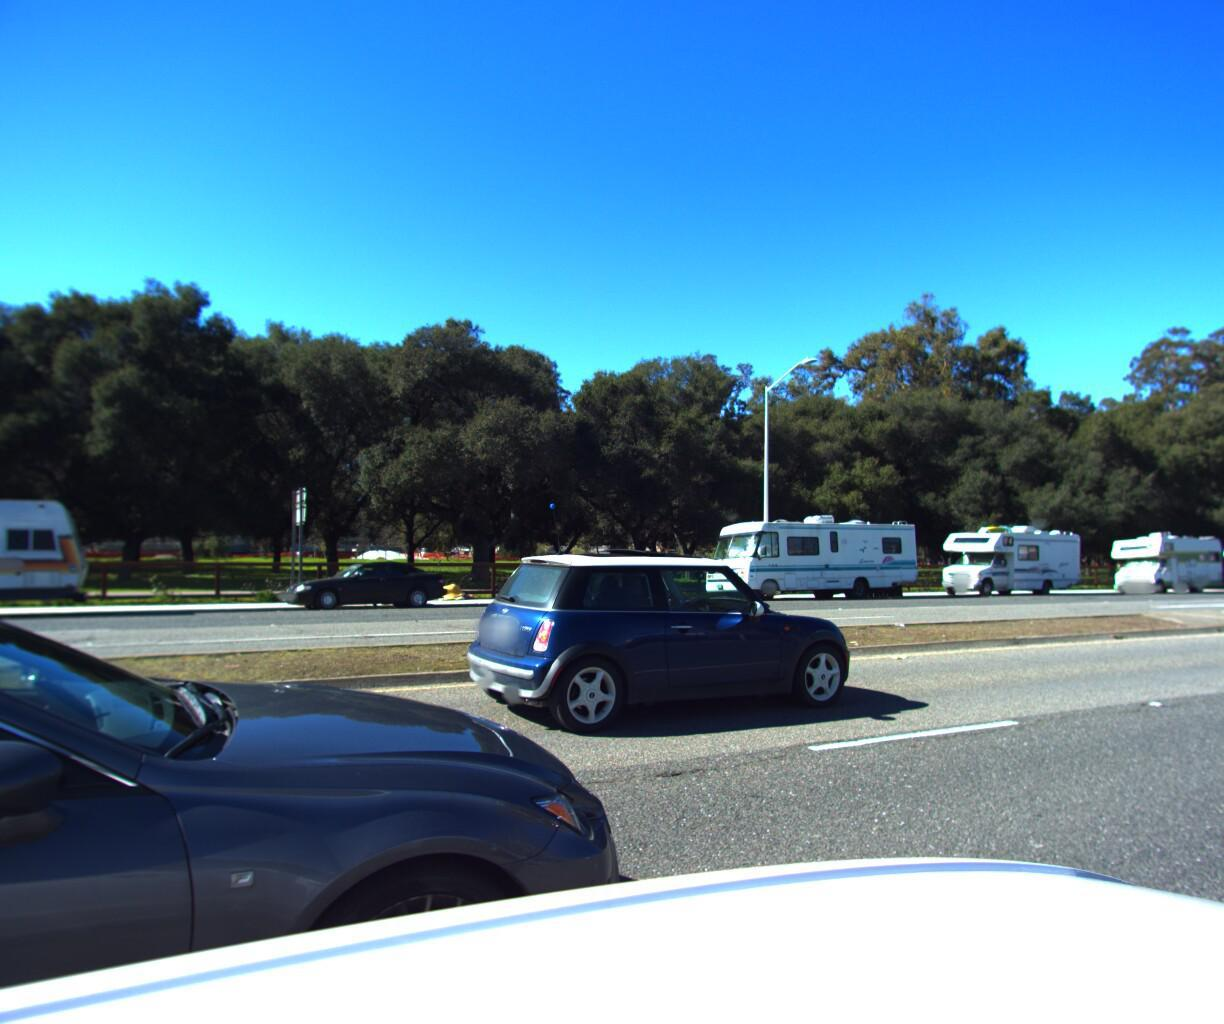car: (451, 540, 874, 742), (276, 556, 458, 614)
other_vehicle: (690, 503, 925, 605), (924, 514, 1086, 596), (1098, 523, 1224, 591), (1207, 529, 1224, 588)
